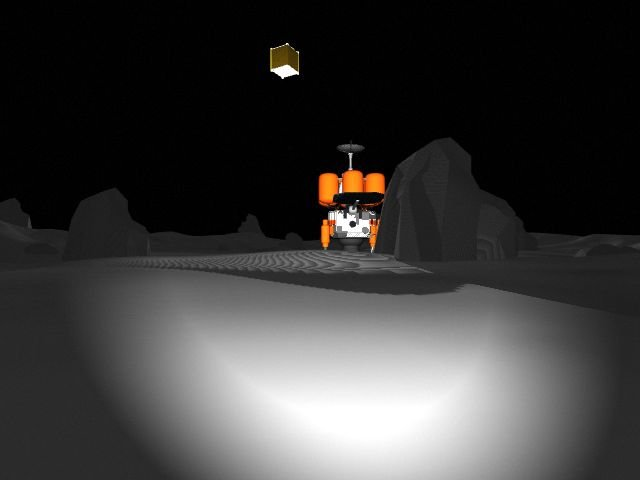cubesat: (265, 38, 304, 88)
